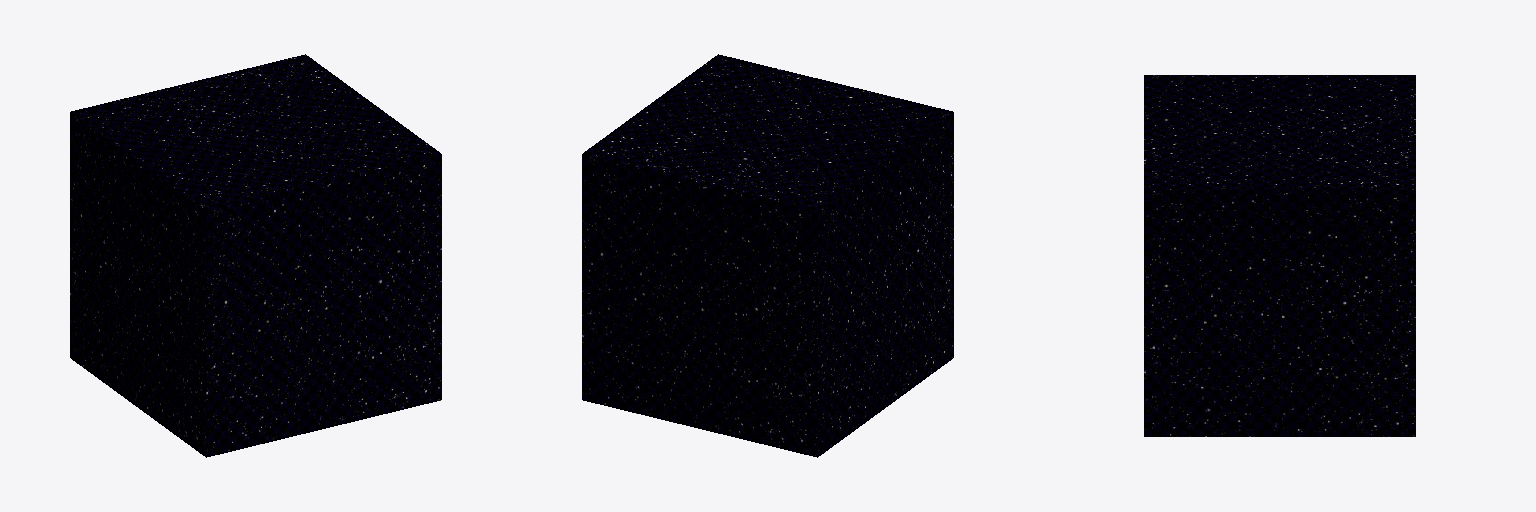
3 views of the same model, side by side, from view 1: azimuth 30°, elevation 25°; view 2: azimuth 150°, elevation 25°; view 3: azimuth 270°, elevation 25° (orthographic).
Parts seen in each view (by area): view 1: Cube; view 2: Cube; view 3: Cube.
Boxes of the visible parts, x1=… form: Cube: x1=70, y1=54, x2=441, y2=457; Cube: x1=582, y1=54, x2=953, y2=457; Cube: x1=1144, y1=75, x2=1415, y2=436.
Size of the model in its own units: 2 by 2 by 2.
1 materials, 1 textured.